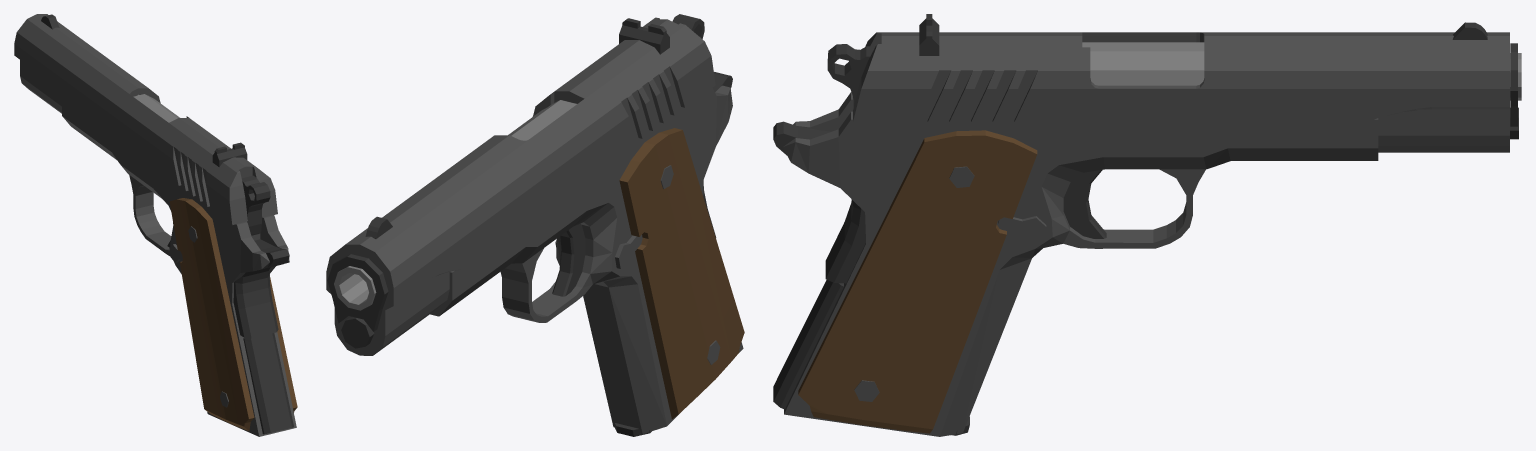
Rendered from weapon-pistol.glb.
3 renders of one model, left to right at view 1: azimuth 30°, elevation 25°; view 2: azimuth 150°, elevation 25°; view 3: azimuth 270°, elevation 25°, orthographic. The views are drawn at different scales.
Visible parts, largest first — view 1: M1911_part, Slide_part, Hammer_part; view 2: M1911_part, Slide_part, Trigger_part, Hammer_part; view 3: M1911_part, Slide_part, Trigger_part, Hammer_part.
Boxes of the visible parts, <box> form: M1911_part: <box>62,94,297,436</box>; Slide_part: <box>14,14,277,224</box>; Hammer_part: <box>241,175,270,235</box>; M1911_part: <box>334,72,744,434</box>; Slide_part: <box>326,17,715,355</box>; Trigger_part: <box>552,223,585,296</box>; Hammer_part: <box>672,14,704,38</box>; M1911_part: <box>773,42,1521,436</box>; Slide_part: <box>853,14,1518,152</box>; Trigger_part: <box>1063,170,1106,238</box>; Hammer_part: <box>827,44,875,106</box>.
Size of the model in its own units: 32.52 by 158 by 264.
Materials: 1 (1 with a texture image).
